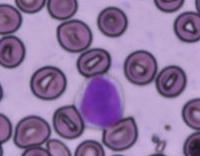L: (75, 72, 124, 128)
